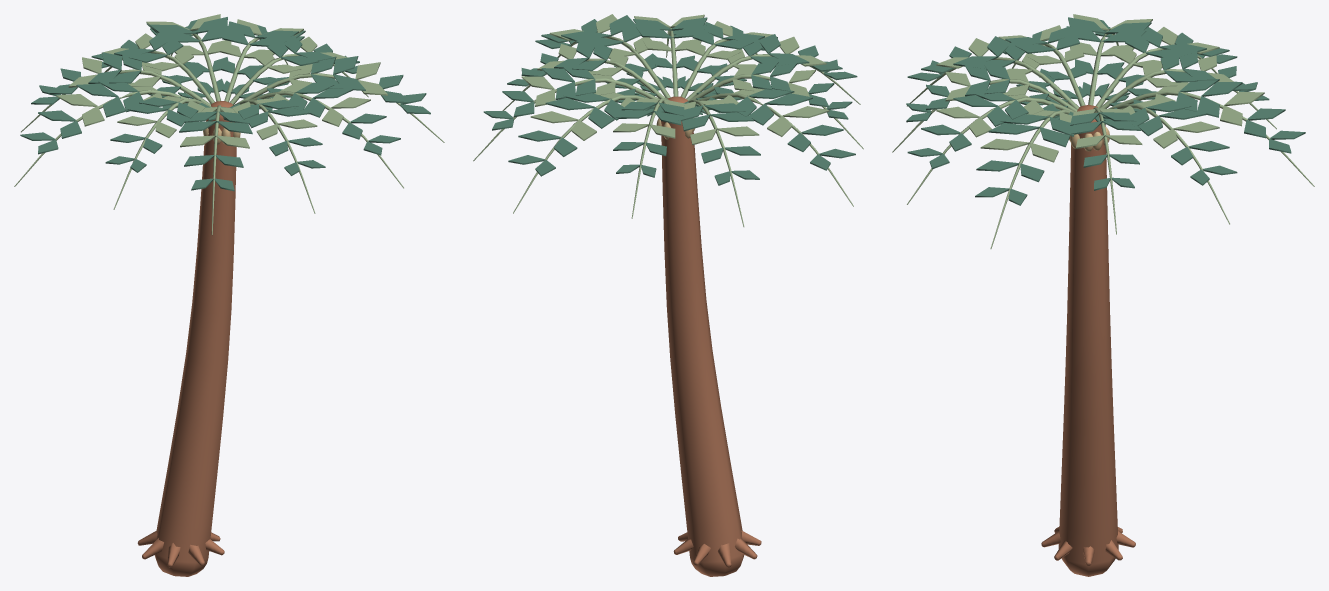
Rendered from primeval-frontier-tree-fern-canopy-9030b3a5__1723.glb.
3 views of the same model, side by side, from view 1: azimuth 30°, elevation 25°; view 2: azimuth 150°, elevation 25°; view 3: azimuth 270°, elevation 25° (orthographic). The views are drawn at different scales.
Parts seen in each view (by area): view 1: tree-fern-canopy; view 2: tree-fern-canopy; view 3: tree-fern-canopy.
Part boxes in pixels (x1=…): tree-fern-canopy: x1=14, y1=14, x2=444, y2=576; tree-fern-canopy: x1=473, y1=14, x2=863, y2=576; tree-fern-canopy: x1=892, y1=14, x2=1314, y2=576.
Bounding box in the file's own units: 3.43 × 4.35 × 3.23.
